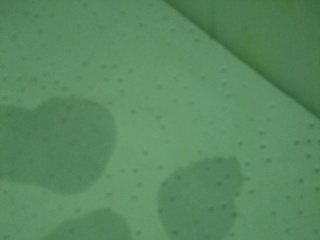Water_detected: (0, 105, 101, 191), (159, 171, 214, 225)
